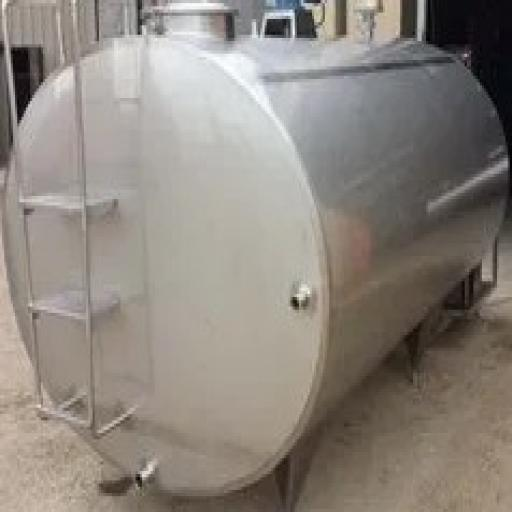silo: (1, 0, 508, 505)
